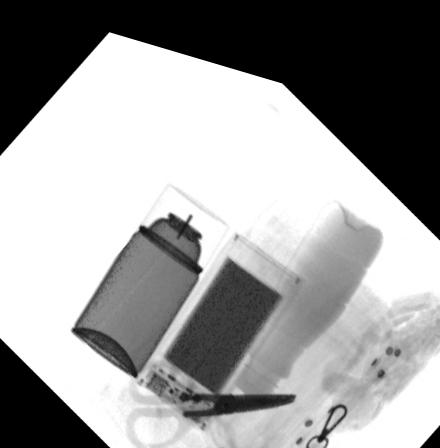Powerbank: (137, 218, 304, 419)
Scissors: (125, 348, 298, 443)
Sprayer: (72, 172, 230, 371)
